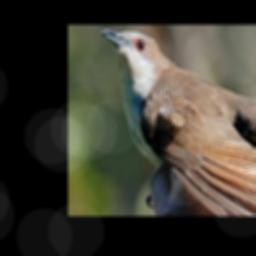Cuckoo: (101, 29, 256, 216)
